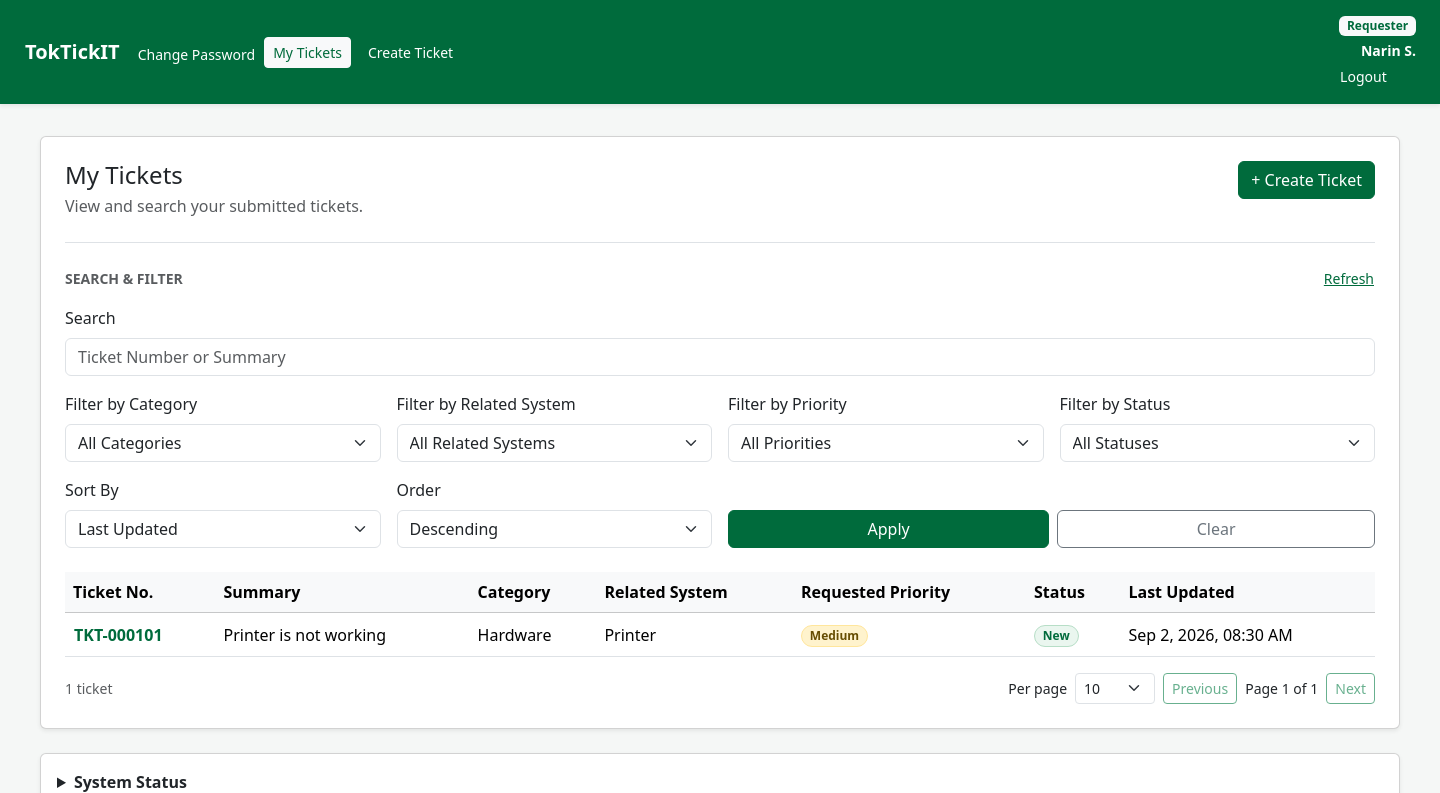
Lab 2 - Attachment Section › shows active attachment metadata and actions
Step 1. Click the button with aria-label "View TKT-000101" → (118, 635), box [73,622,164,648]
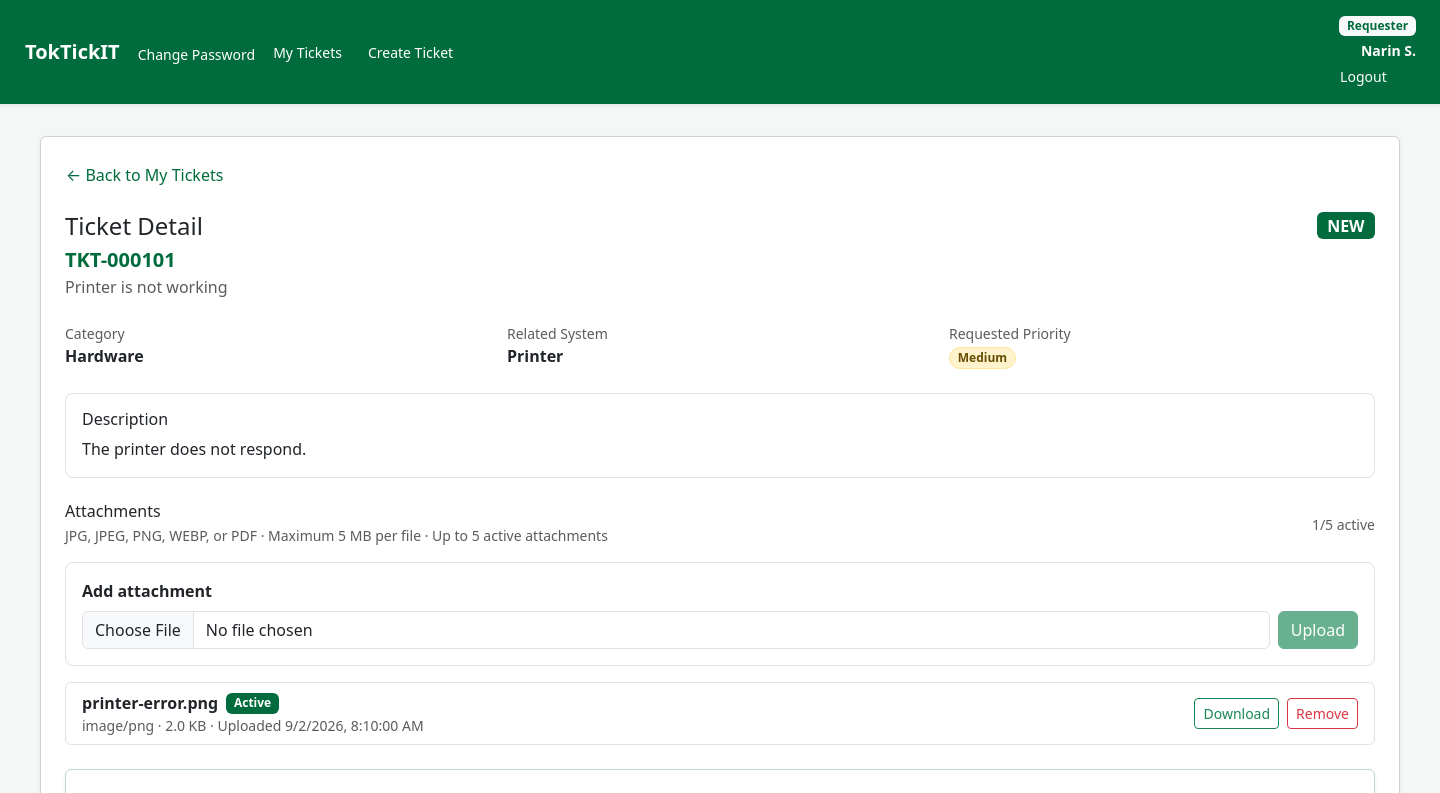
Check: the heading "Ticket Detail" is shown, box [65,209,203,242]
Check: the text "printer-error.png" is shown, box [82,692,218,714]
Check: the text "Active" is shown, box [226,693,279,714]
